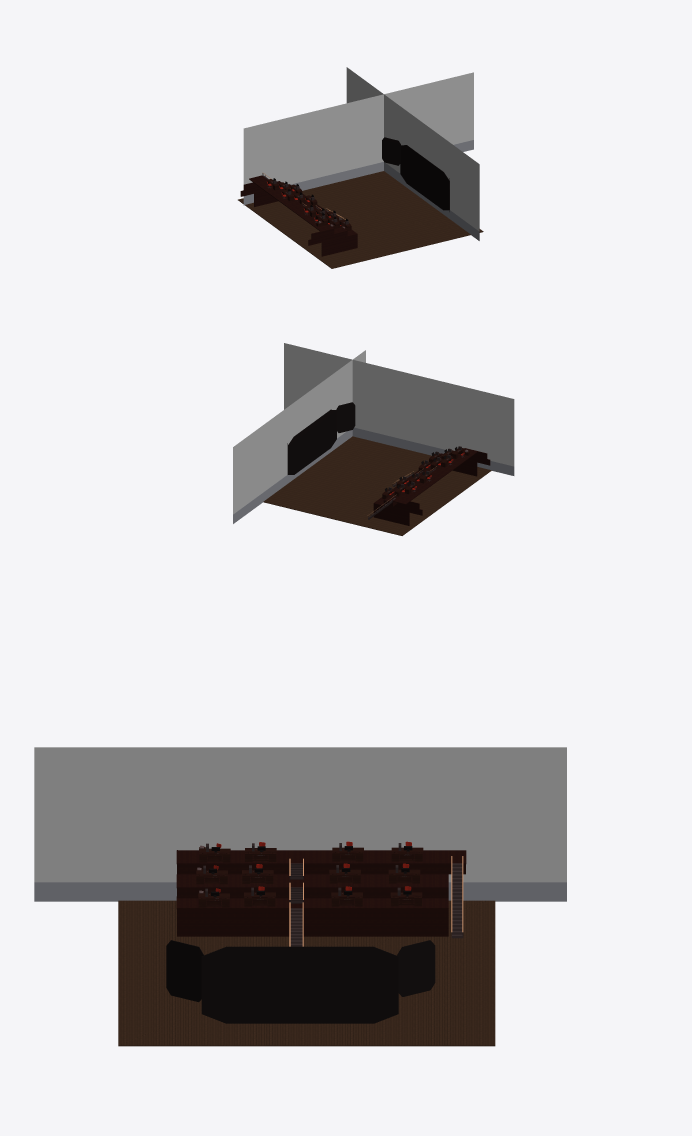
Rendered from satellite_control.glb.
3 views of the same model, one above another, from view 1: azimuth 30°, elevation 25°; view 2: azimuth 150°, elevation 25°; view 3: azimuth 270°, elevation 25° (orthographic). The views are drawn at different scales.
Parts seen in each view (by area): view 1: mergedBlocks(Clone); view 2: mergedBlocks(Clone); view 3: mergedBlocks(Clone).
Boxes of the visible parts, x1,y1,x2,y2 form: mergedBlocks(Clone): (238, 67, 483, 268); mergedBlocks(Clone): (233, 343, 514, 535); mergedBlocks(Clone): (34, 747, 566, 1046).
Bounding box in the file's own units: 75.76 × 10.6 × 38.5.
11 materials, 4 textured.
